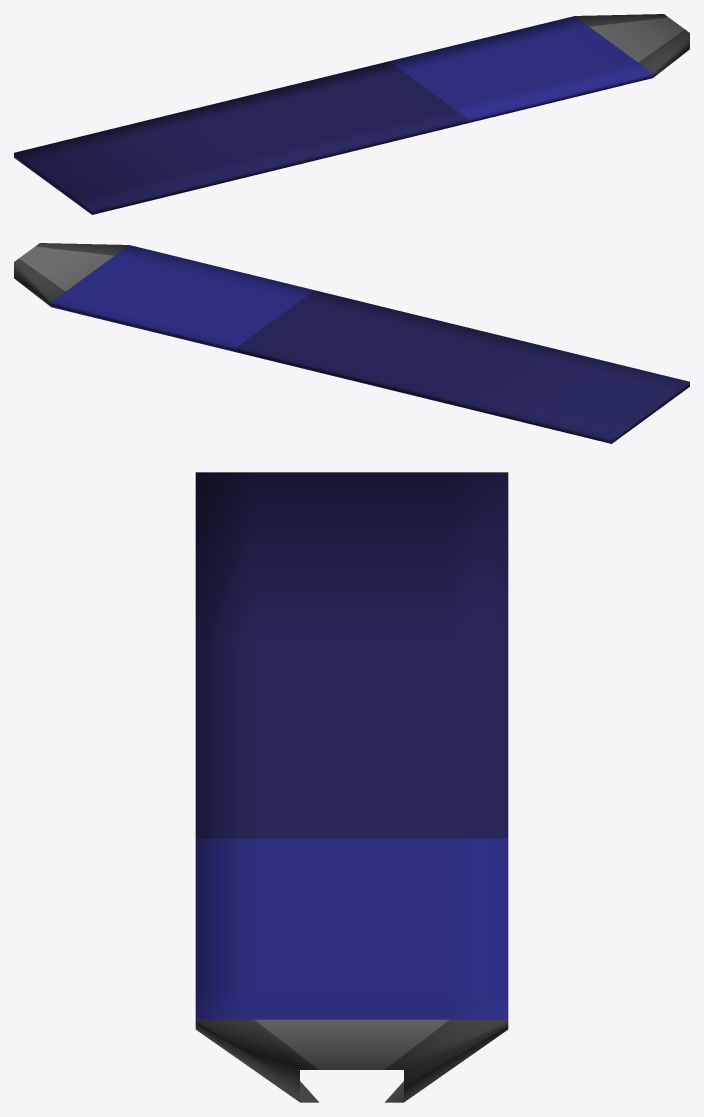
File: tdrsPanelIzq.obj
3 views of the same model, one above another, from view 1: azimuth 30°, elevation 25°; view 2: azimuth 150°, elevation 25°; view 3: azimuth 270°, elevation 25° (orthographic). The views are drawn at different scales.
Visible parts, largest first — view 1: Ala1_WingBlue, Ala1_InnerWingBlue, Ala1_Transparency, Ala1_WingStruts1; view 2: Ala1_WingBlue, Ala1_InnerWingBlue, Ala1_Transparency, Ala1_WingStruts1; view 3: Ala1_WingBlue, Ala1_InnerWingBlue, Ala1_WingStruts1, Ala1_Transparency.
Part boxes in pixels (x1=…): Ala1_WingBlue: x1=14, y1=61, x2=467, y2=214; Ala1_InnerWingBlue: x1=389, y1=16, x2=652, y2=123; Ala1_Transparency: x1=589, y1=17, x2=684, y2=62; Ala1_WingStruts1: x1=575, y1=14, x2=689, y2=77; Ala1_WingBlue: x1=236, y1=290, x2=689, y2=443; Ala1_InnerWingBlue: x1=51, y1=245, x2=314, y2=352; Ala1_Transparency: x1=19, y1=246, x2=114, y2=291; Ala1_WingStruts1: x1=14, y1=243, x2=128, y2=306; Ala1_WingBlue: x1=195, y1=472, x2=508, y2=838; Ala1_InnerWingBlue: x1=195, y1=838, x2=508, y2=1019; Ala1_WingStruts1: x1=195, y1=1019, x2=508, y2=1102; Ala1_Transparency: x1=254, y1=1019, x2=449, y2=1069.
Bounding box in the file's own units: 0.3933 × 0.00983 × 0.0854.
